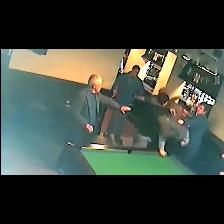person: (70, 75, 130, 145), (178, 104, 208, 163), (112, 66, 144, 106)
